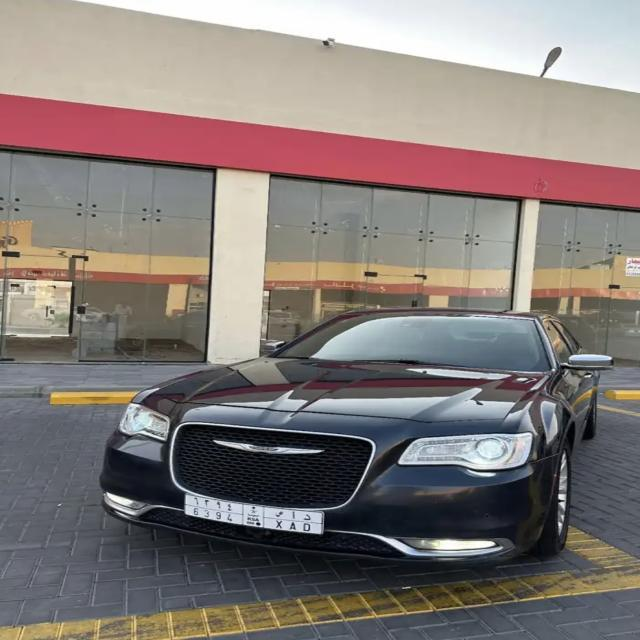license_plate: (184, 494, 326, 536)
